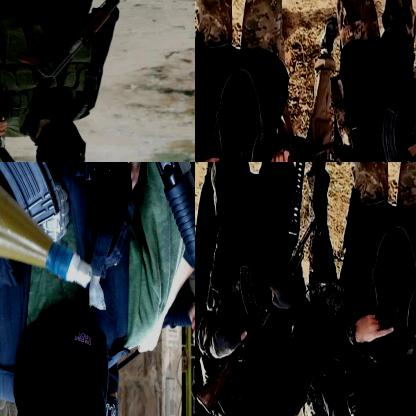rifle: (195, 215, 321, 415), (22, 0, 143, 86), (329, 275, 415, 363), (0, 49, 61, 161), (195, 118, 342, 161), (317, 109, 415, 161)
